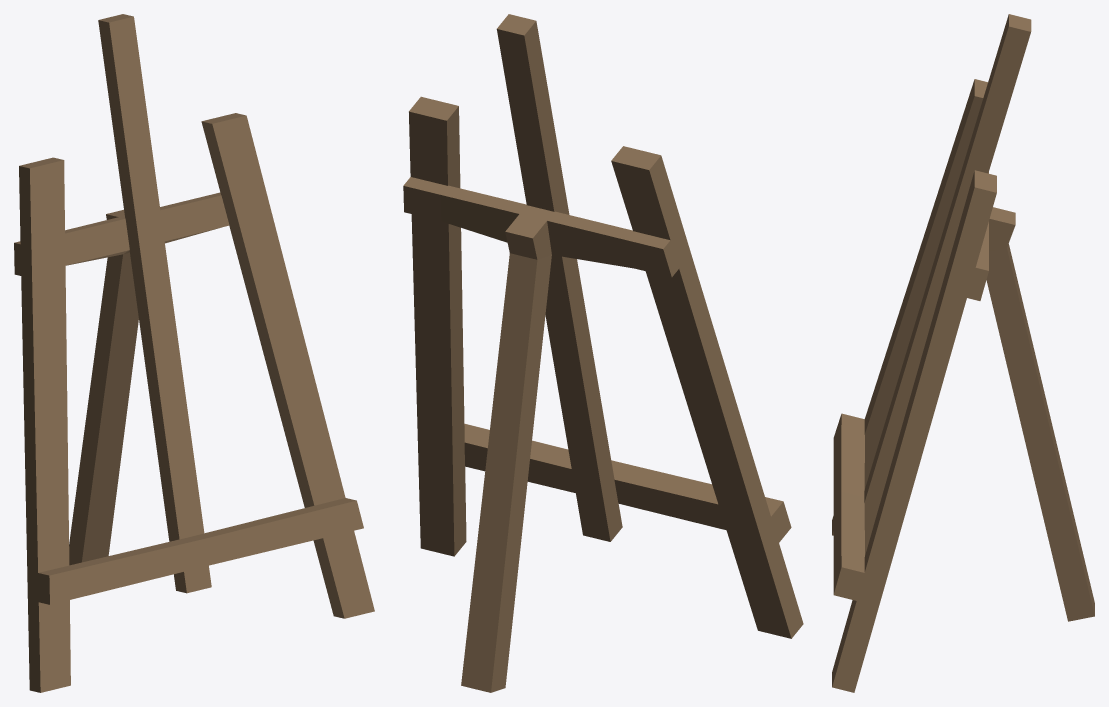
The model's file is PaintingStand.fbx.
3 renders of one model, left to right at view 1: azimuth 30°, elevation 25°; view 2: azimuth 150°, elevation 25°; view 3: azimuth 270°, elevation 25°, orthographic. The views are drawn at different scales.
Parts seen in each view (by area): view 1: Plane; view 2: Plane; view 3: Plane.
Part boxes in pixels (x1=…): Plane: x1=14, y1=14, x2=374, y2=692; Plane: x1=403, y1=14, x2=803, y2=692; Plane: x1=832, y1=14, x2=1094, y2=692.
Size of the model in its own units: 2 by 3.32 by 1.33.
